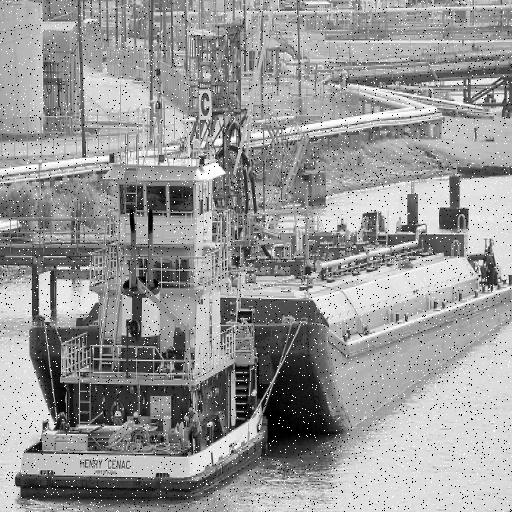tugboat: (11, 104, 277, 508)
